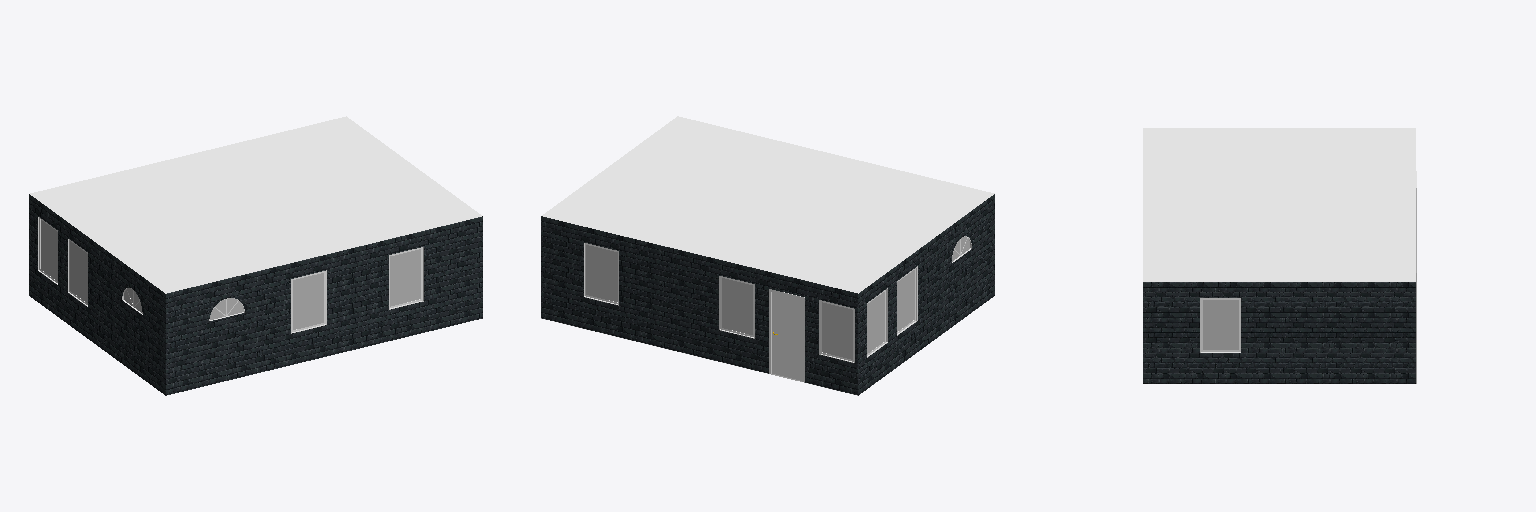
3 views of the same model, side by side, from view 1: azimuth 30°, elevation 25°; view 2: azimuth 150°, elevation 25°; view 3: azimuth 270°, elevation 25° (orthographic).
Visible parts, largest first — view 1: wall_11_65, room_16_93, wall_7_41, room_18_97, room_17_95, room_19_99, wall_6_35, wall_2_11, room_20_101, wall_10_58, sweethome3d_window_pane_145, sweethome3d_window_pane_148 (+2 smaller); view 2: room_16_93, wall_5_29, wall_15_89, room_18_97, room_17_95, room_19_99, wall_6_35, wall_2_11, room_20_101, Porte_121, wall_1_5, sweethome3d_window_pane_154 (+5 smaller); view 3: wall_14_83, room_16_93, wall_12_71, room_18_97, room_19_99, room_17_95, room_20_101, sweethome3d_window_pane_151.
Boxes of the visible parts, x1=… form: wall_11_65: x1=330, y1=216, x2=482, y2=355; room_16_93: x1=34, y1=147, x2=289, y2=241; wall_7_41: x1=166, y1=264, x2=286, y2=395; room_18_97: x1=264, y1=167, x2=477, y2=251; room_17_95: x1=101, y1=215, x2=282, y2=291; room_19_99: x1=230, y1=118, x2=409, y2=193; wall_6_35: x1=97, y1=245, x2=165, y2=395; wall_2_11: x1=29, y1=194, x2=97, y2=345; room_20_101: x1=219, y1=204, x2=326, y2=262; wall_10_58: x1=286, y1=254, x2=331, y2=365; sweethome3d_window_pane_145: x1=293, y1=273, x2=323, y2=329; sweethome3d_window_pane_148: x1=390, y1=249, x2=420, y2=306; room_16_93: x1=665, y1=197, x2=921, y2=290; wall_5_29: x1=660, y1=246, x2=817, y2=385; wall_15_89: x1=541, y1=216, x2=661, y2=347; room_18_97: x1=613, y1=118, x2=826, y2=202; room_17_95: x1=809, y1=166, x2=989, y2=242; room_19_99: x1=546, y1=168, x2=726, y2=243; wall_6_35: x1=926, y1=194, x2=994, y2=345; wall_2_11: x1=858, y1=245, x2=926, y2=395; room_20_101: x1=764, y1=155, x2=870, y2=213; Porte_121: x1=772, y1=292, x2=801, y2=380; wall_1_5: x1=818, y1=284, x2=857, y2=394; sweethome3d_window_pane_154: x1=586, y1=245, x2=617, y2=301; wall_14_83: x1=1281, y1=282, x2=1415, y2=383; room_16_93: x1=1283, y1=129, x2=1412, y2=222; wall_12_71: x1=1143, y1=282, x2=1282, y2=383; room_18_97: x1=1147, y1=209, x2=1278, y2=280; room_19_99: x1=1283, y1=224, x2=1412, y2=280; room_17_95: x1=1147, y1=129, x2=1278, y2=184; room_20_101: x1=1147, y1=187, x2=1278, y2=206; sweethome3d_window_pane_151: x1=1203, y1=300, x2=1238, y2=349.
Bounding box in the file's own units: 813 × 250 × 608.
9 materials, 3 textured.